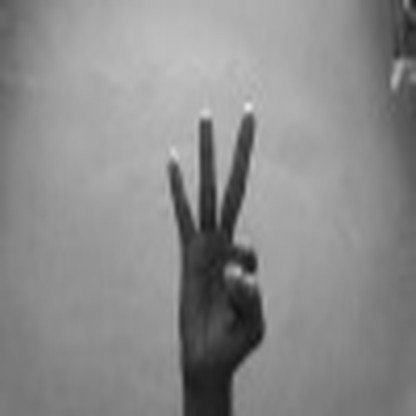f: (156, 90, 276, 381)
